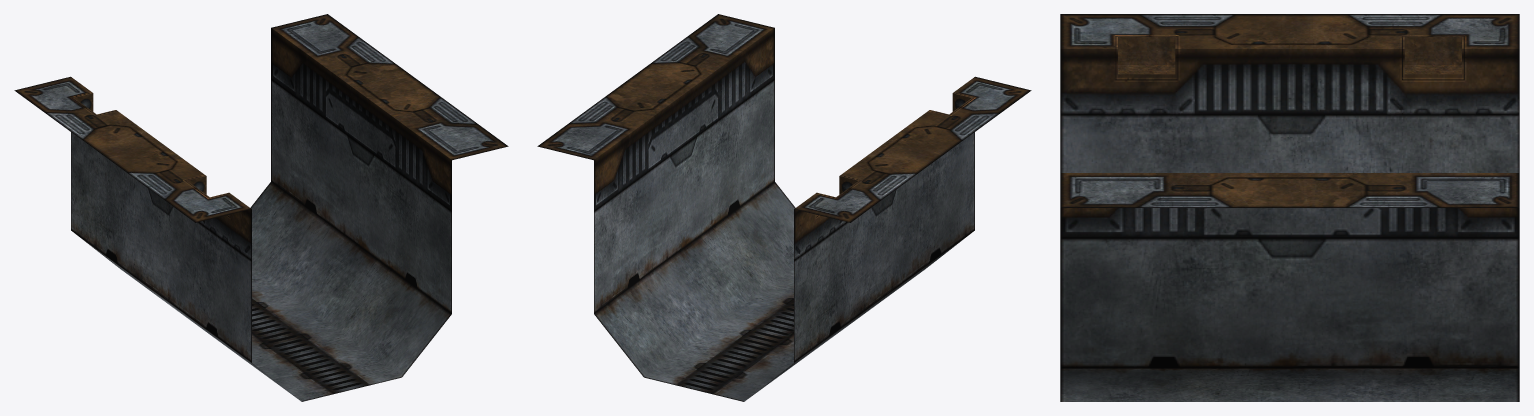
The model's file is tunnel_straight_hatch_metal.dae.
3 renders of one model, left to right at view 1: azimuth 30°, elevation 25°; view 2: azimuth 150°, elevation 25°; view 3: azimuth 270°, elevation 25°, orthographic. The views are drawn at different scales.
Parts seen in each view (by area): view 1: pPlane18; view 2: pPlane18; view 3: pPlane18.
Boxes of the visible parts, box(x1,y1,x2,y2) form: pPlane18: box(14, 14, 508, 401); pPlane18: box(537, 14, 1031, 401); pPlane18: box(1060, 14, 1519, 401).
Bounding box in the file's own units: 2 × 1.25 × 2.
